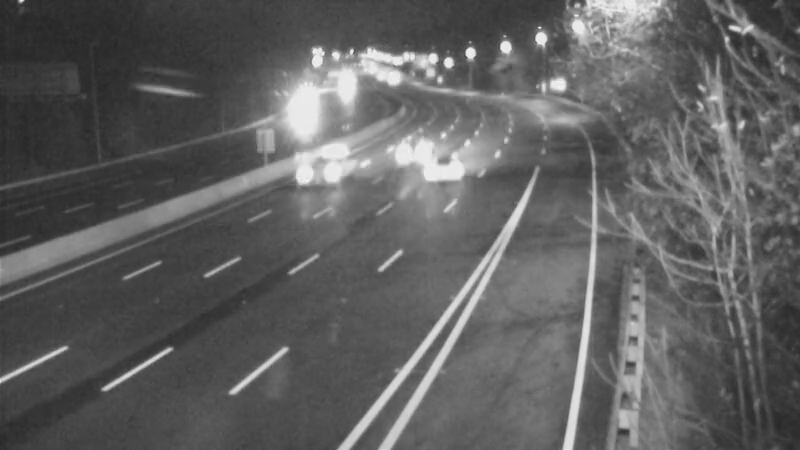vehicle: (400, 127, 480, 207), (288, 131, 368, 211), (386, 120, 436, 170)
